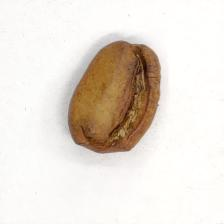NG: (77, 42, 151, 147)
